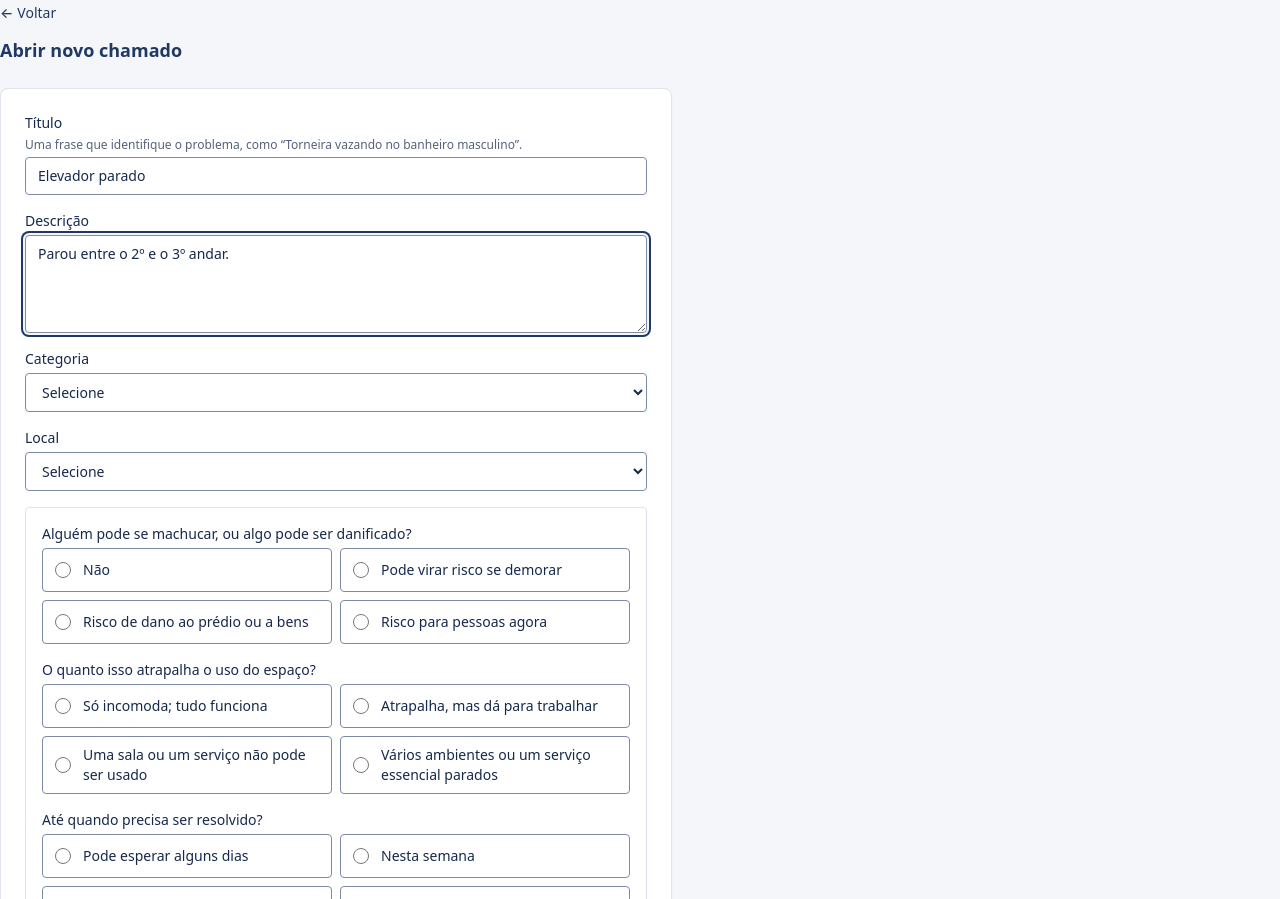
Scenario: Confirmação da abertura › leva o protocolo para a tela do chamado, para a pessoa saber que abriu
The width and height of the screenshot is (1280, 899).
Earlier steps of the test are not shown.
Select "elétrica" in the dropdown labelled "Categoria": (336, 392) [25,373,647,412]
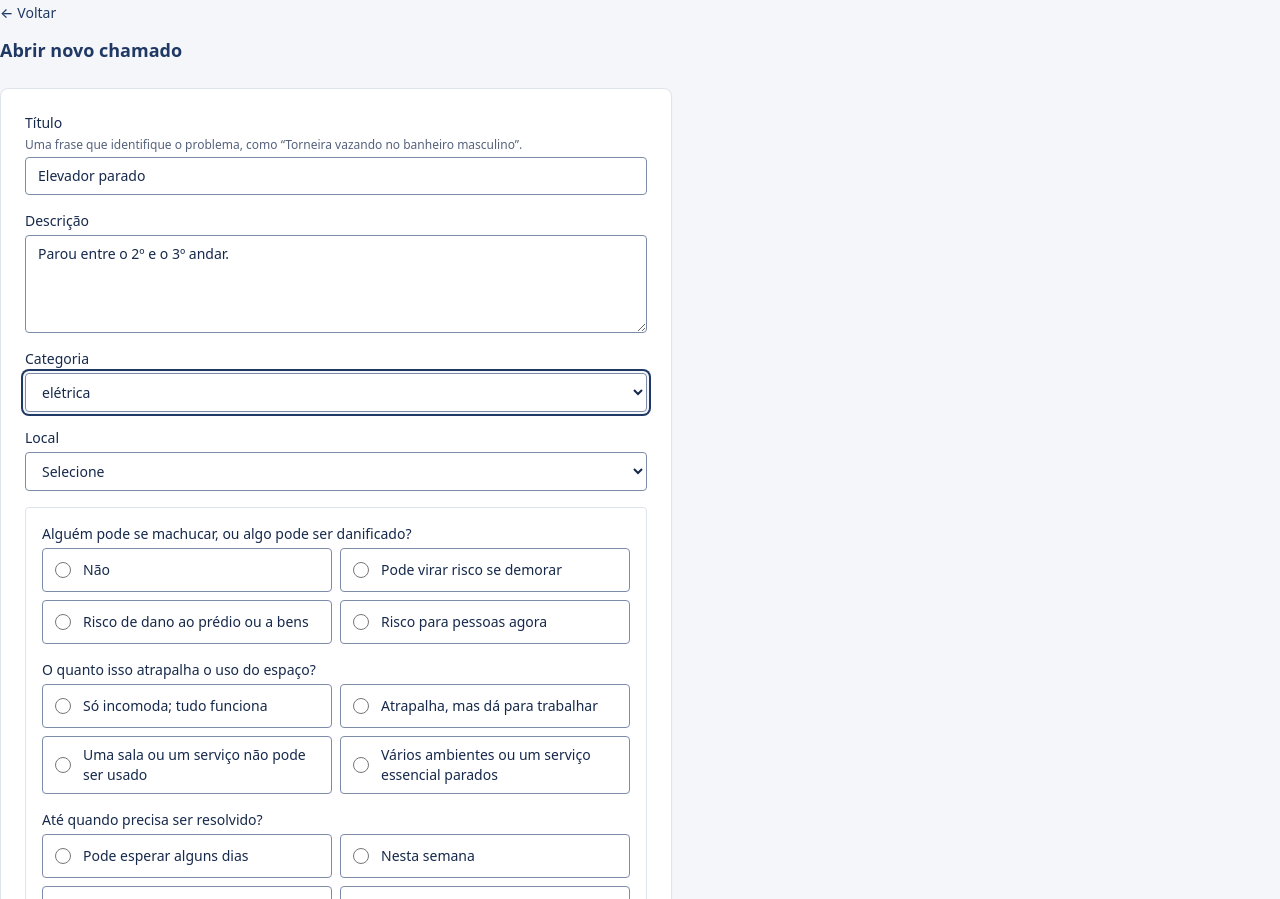
Select "Prédio A" in the dropdown labelled "Local": (336, 472) [25,452,647,491]
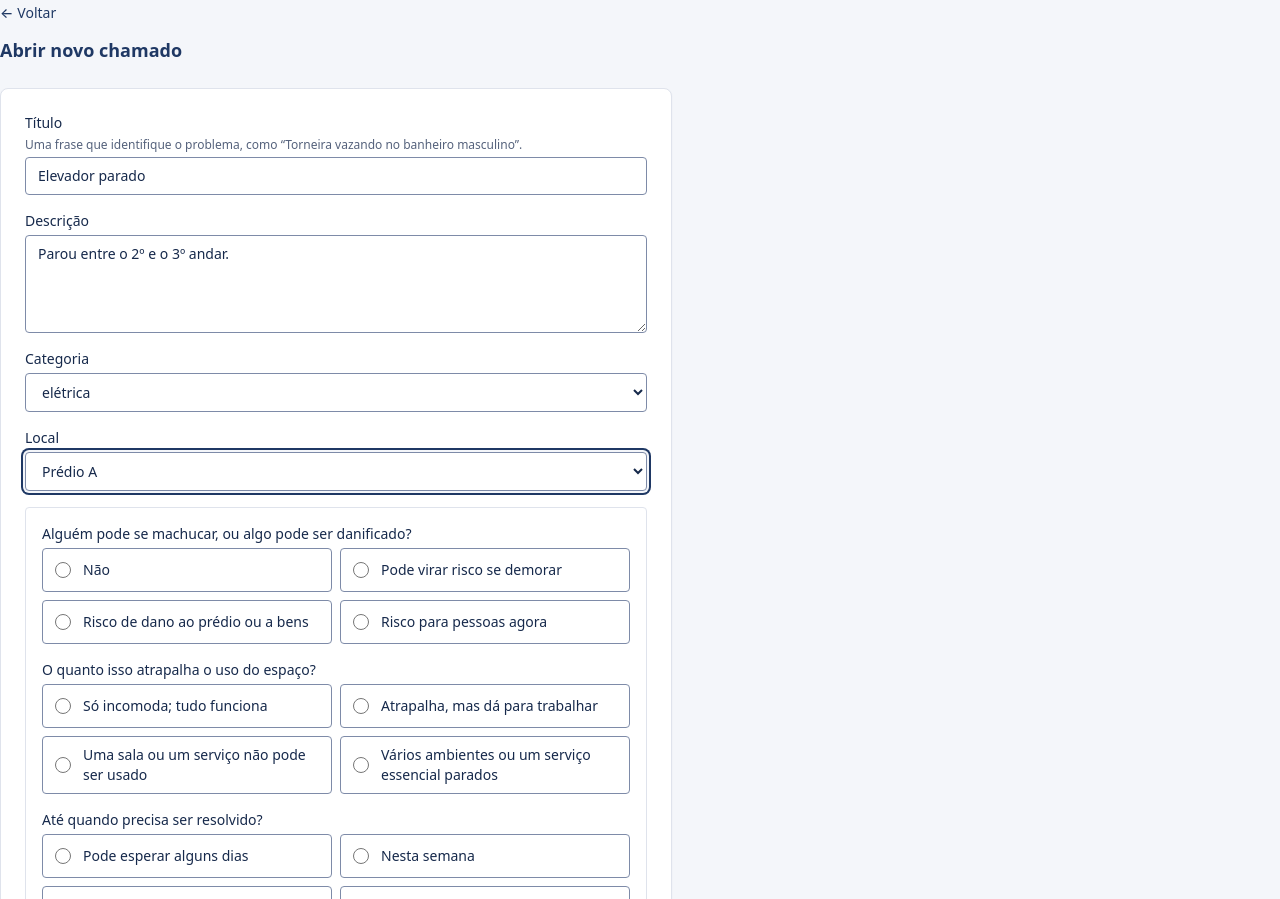
Click the radio button labelled "Risco para pessoas agora": click(361, 622) [353,614,369,630]
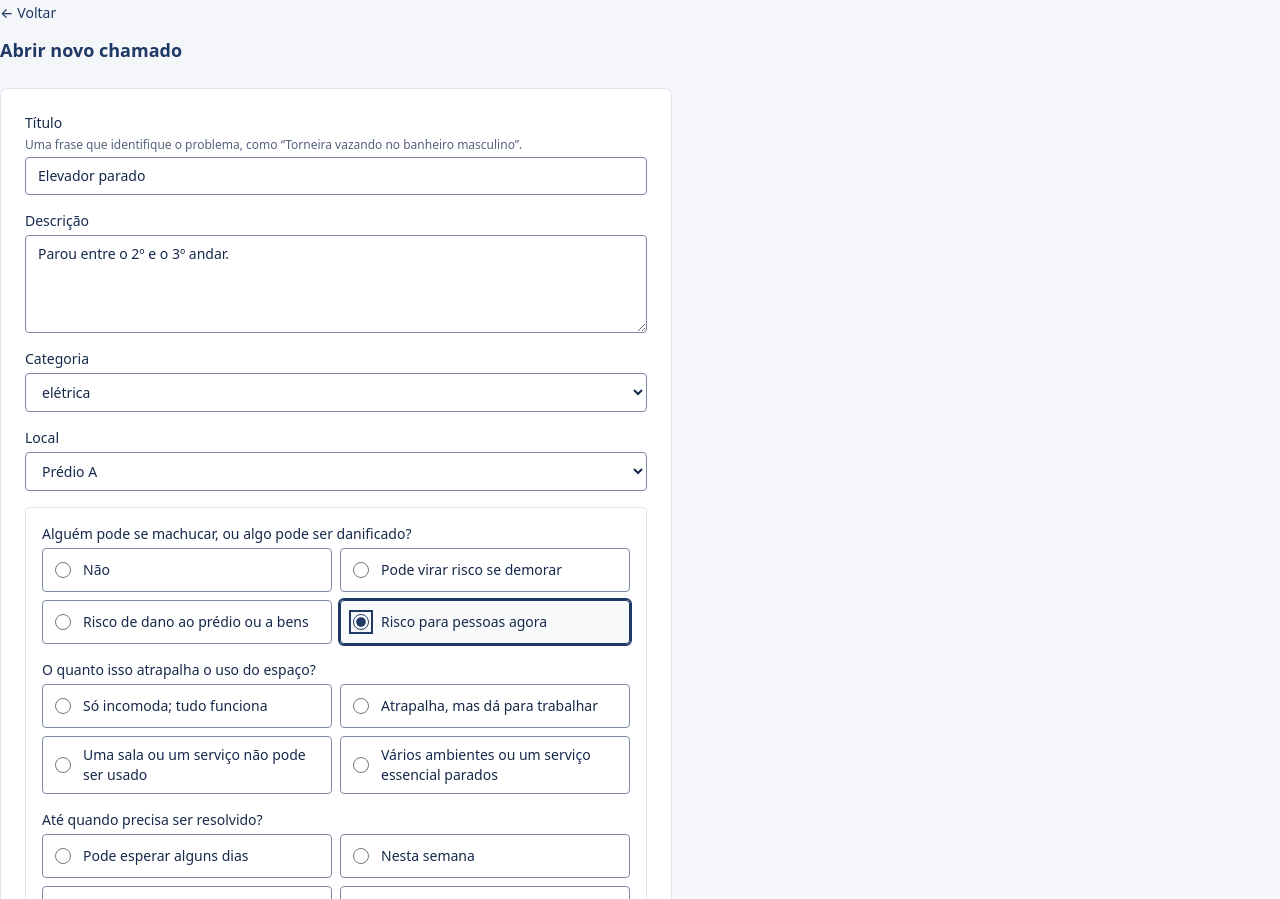
Click the radio button labelled "Uma sala ou um serviço não pode ser usado": click(63, 765) [55,757,71,773]
(page scrolled)
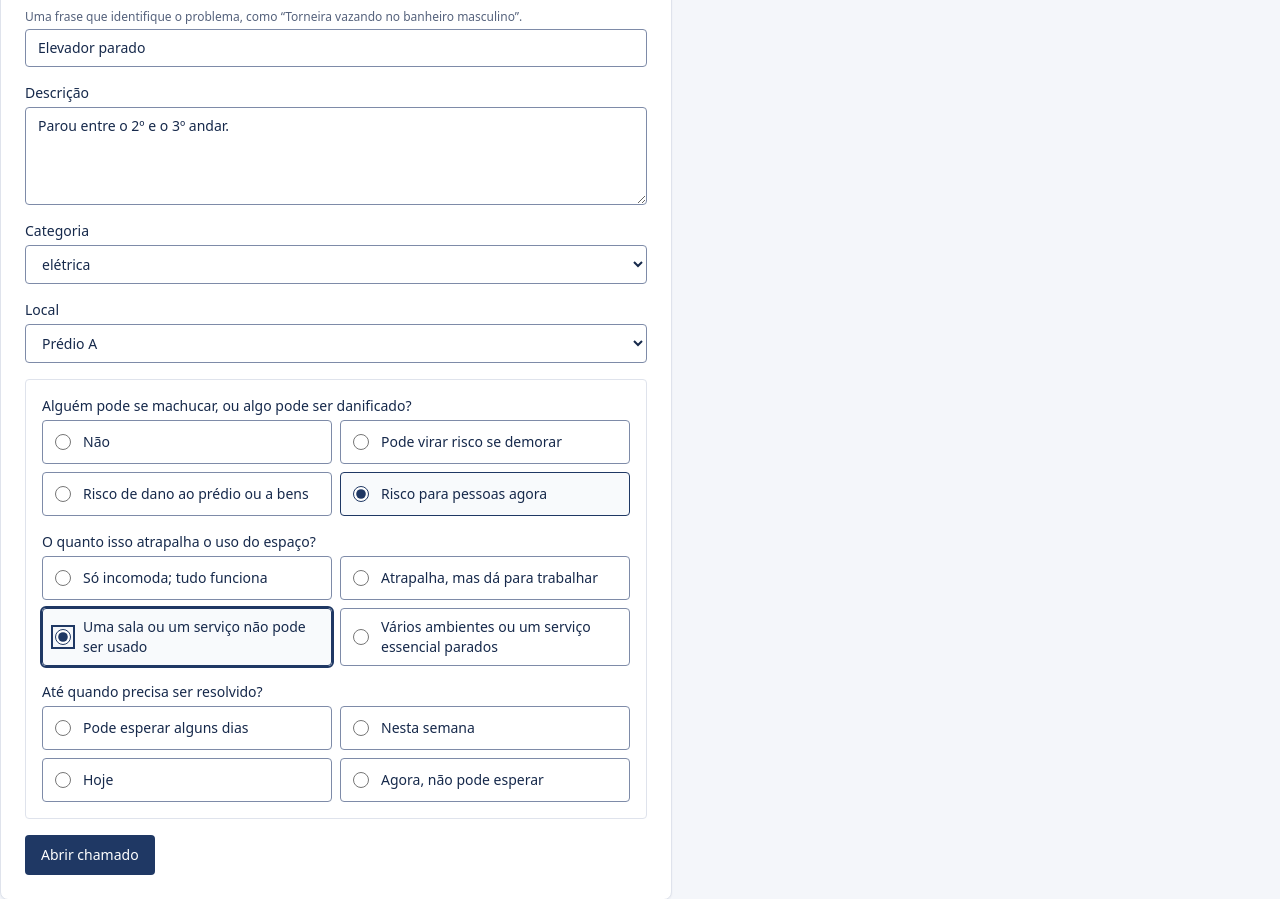
Click the radio button labelled "Agora, não pode esperar": click(361, 780) [353,772,369,788]
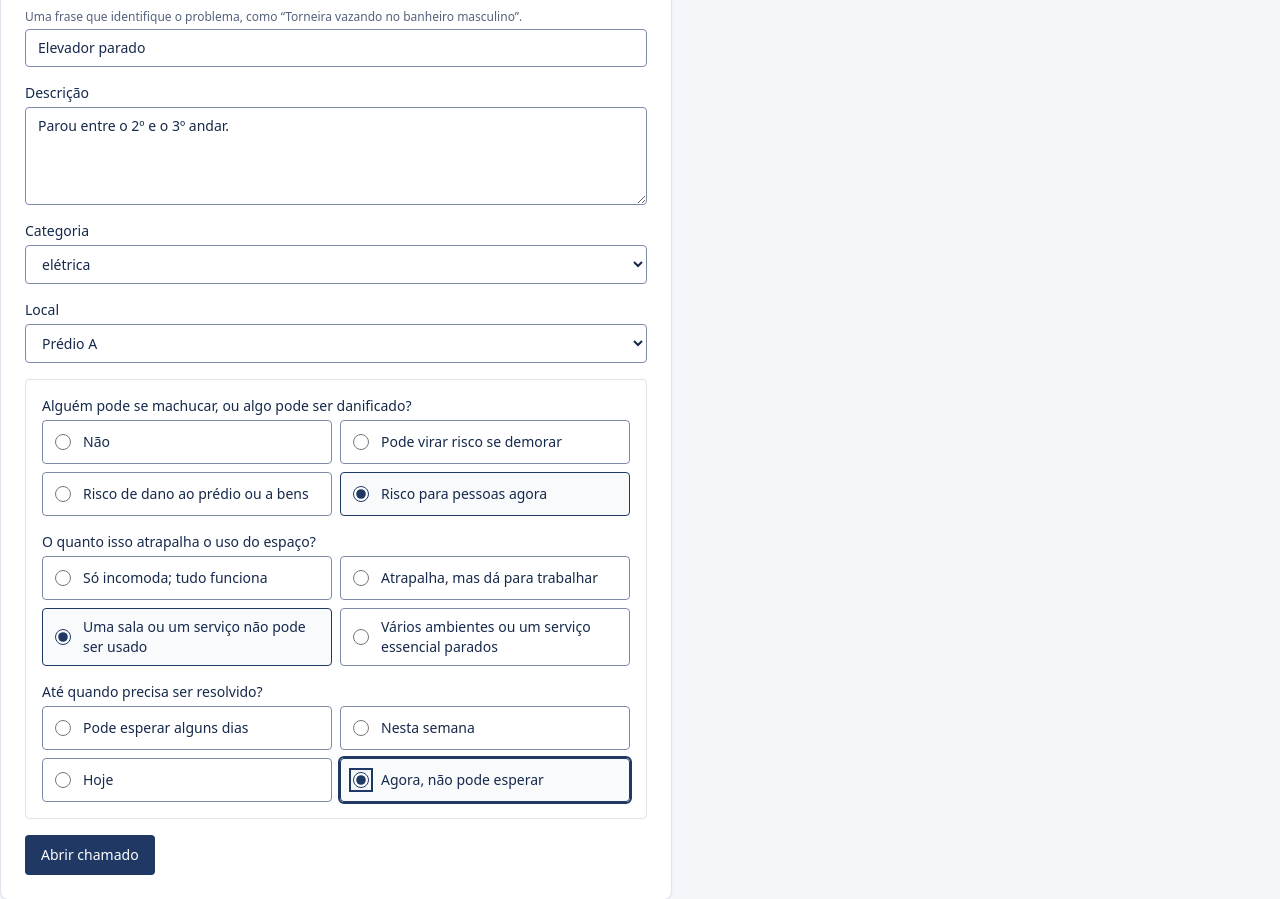
Click the button "Abrir chamado": click(90, 855) [25,835,155,875]
(page scrolled)
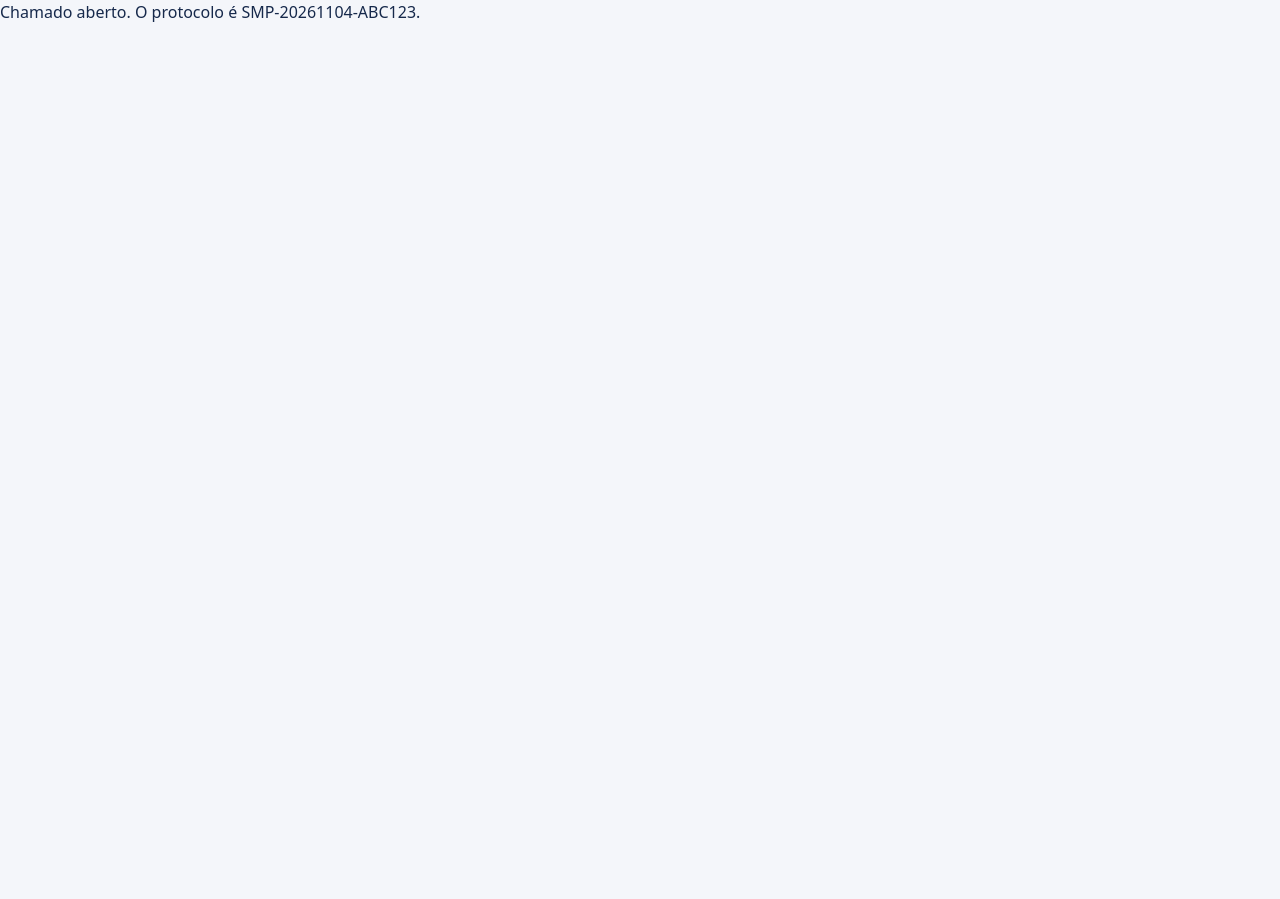
Expected: the text "Chamado aberto. O protocolo é SMP-20261104-ABC123." is shown, [0,1,420,23]
